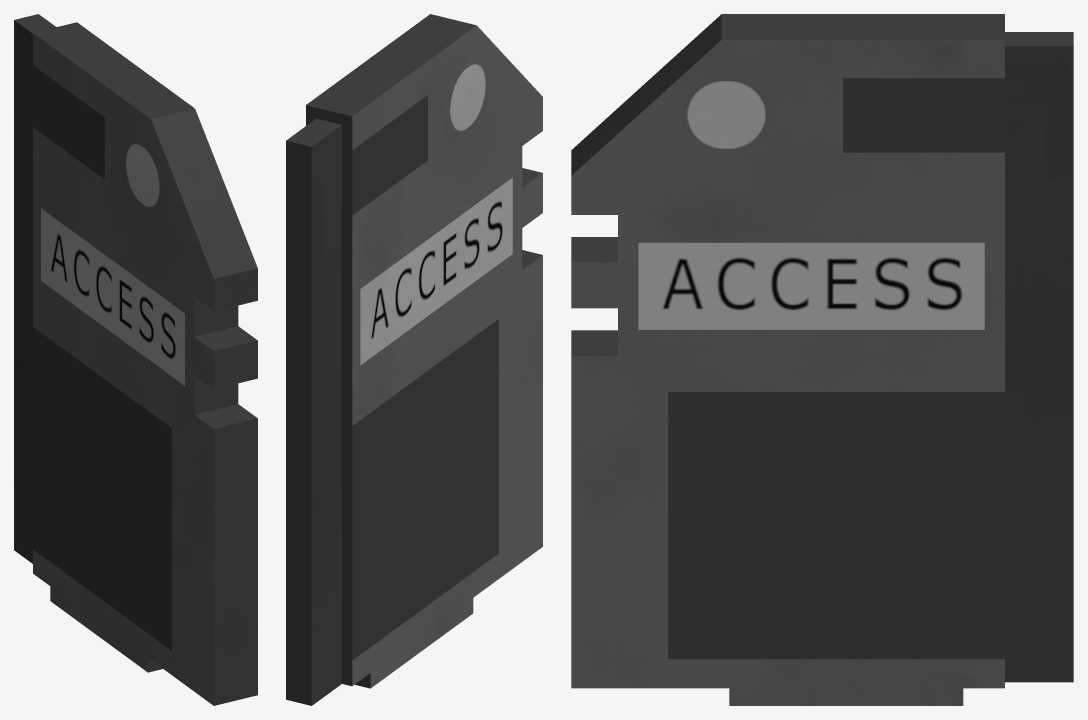
File: Key.dae
3 views of the same model, side by side, from view 1: azimuth 30°, elevation 25°; view 2: azimuth 150°, elevation 25°; view 3: azimuth 270°, elevation 25° (orthographic). The views are drawn at different scales.
Parts seen in each view (by area): view 1: Cube; view 2: Cube; view 3: Cube.
Part boxes in pixels (bbox=[...]): Cube: bbox=[14, 14, 257, 705]; Cube: bbox=[286, 14, 542, 705]; Cube: bbox=[571, 14, 1073, 705].
Bounding box in the file's own units: 0.1704 × 1.4 × 2.05.
